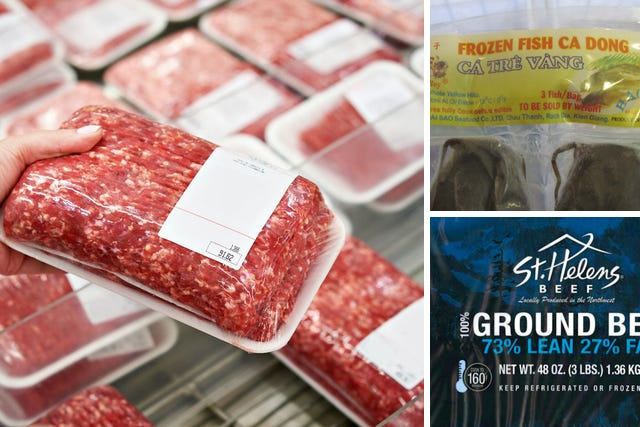ground_beef: (59, 115, 292, 339), (154, 42, 233, 95), (67, 372, 139, 427)
